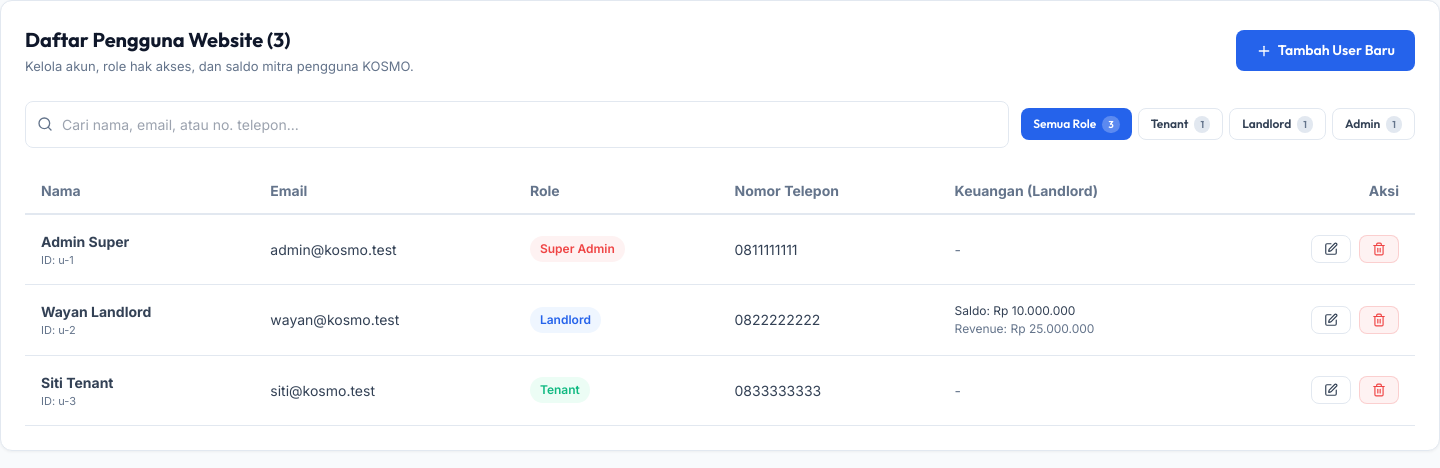
Scenario: Admin UsersTab Component Suite › filters users by search input (name, email, phone)
Step 1. Type "0833333333" into the field with test id "users-search-input" → (517,124), box top-left (25, 100), bottom-right (1009, 148)
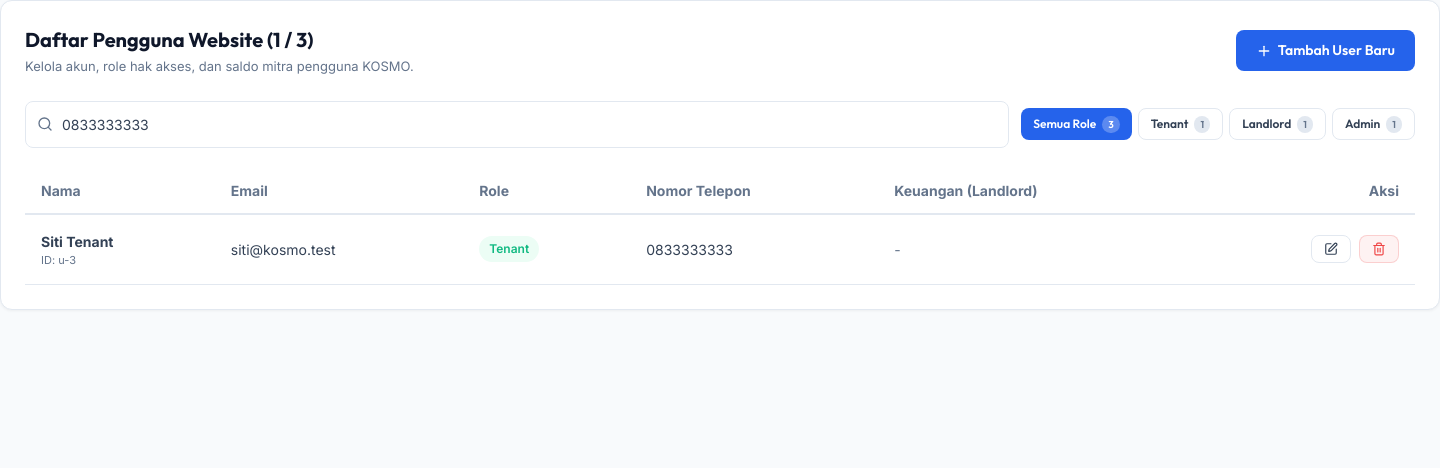
Expected: the text "Siti Tenant" is shown, top-left (41, 232), bottom-right (114, 250)
Result: the text "Wayan Landlord" is gone
Step 2. Replace the text in the field with test id "users-search-input" with "None" → (517,124), box top-left (25, 100), bottom-right (1009, 148)
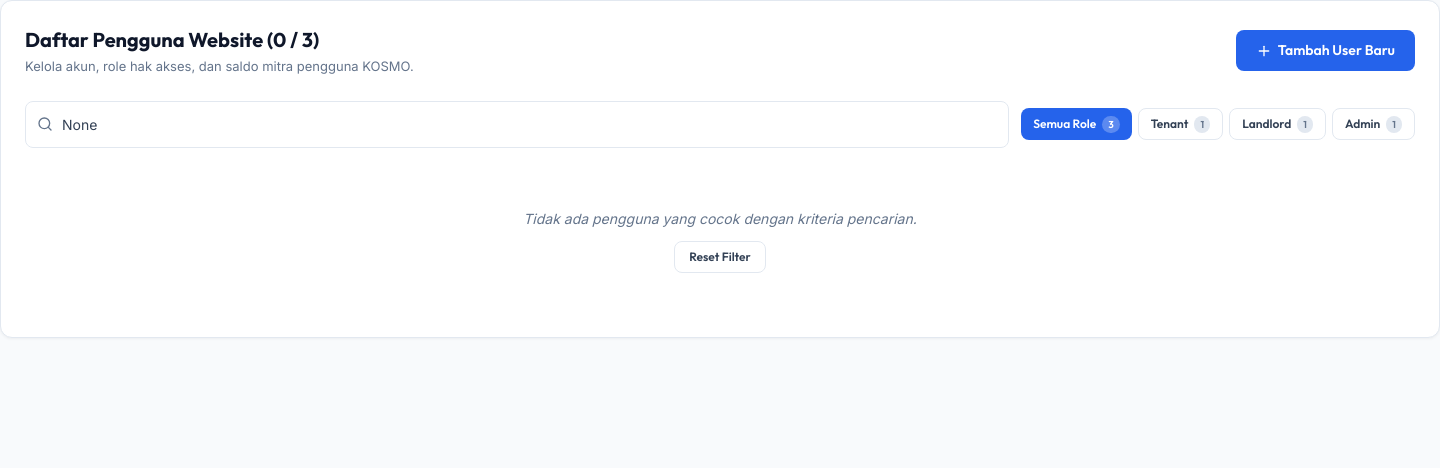
Result: the element with test id "users-empty-state" is shown at top-left (523, 210), bottom-right (917, 272)
